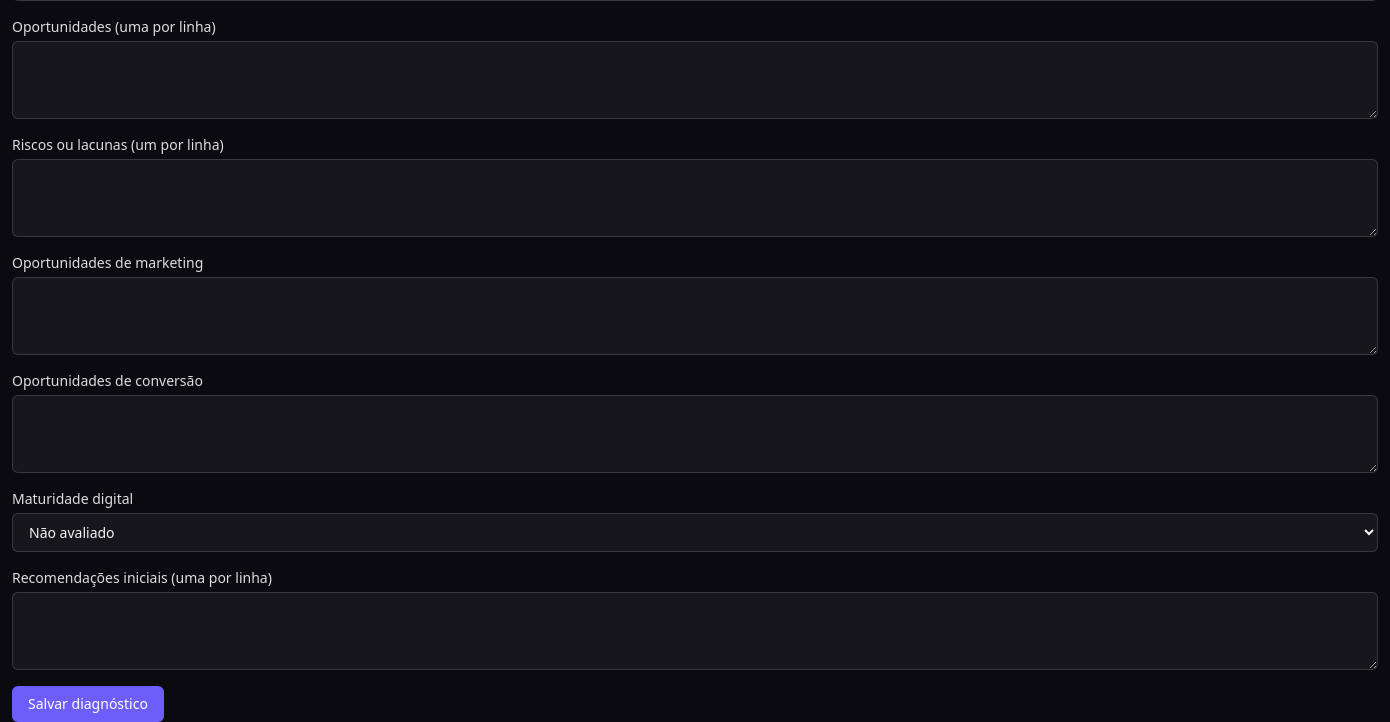
Test case: DiagnosisForm › shows a pending state while the action is running
(page scrolled)
Click the button "Salvar diagnóstico". click: (88, 704)
box: [12,686,164,721]
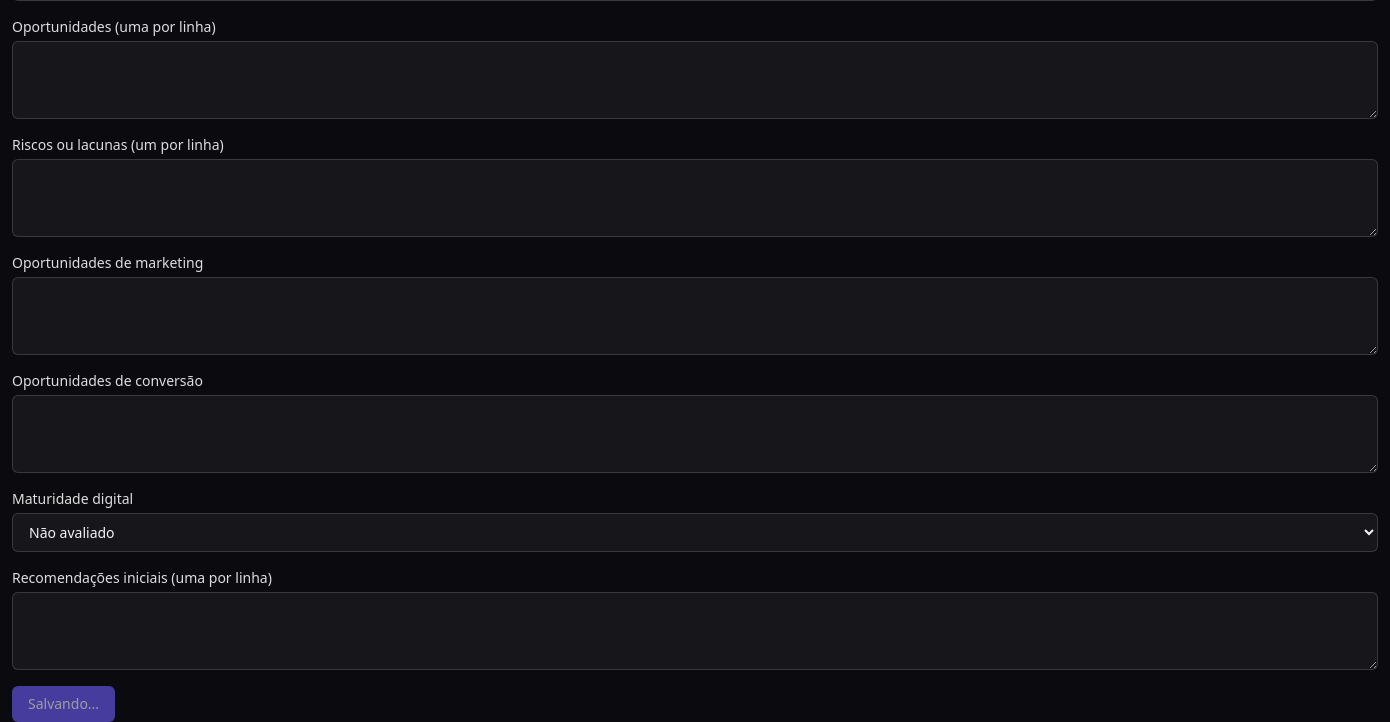
Check: the button "Salvando..." is disabled, box [12,686,115,721]
